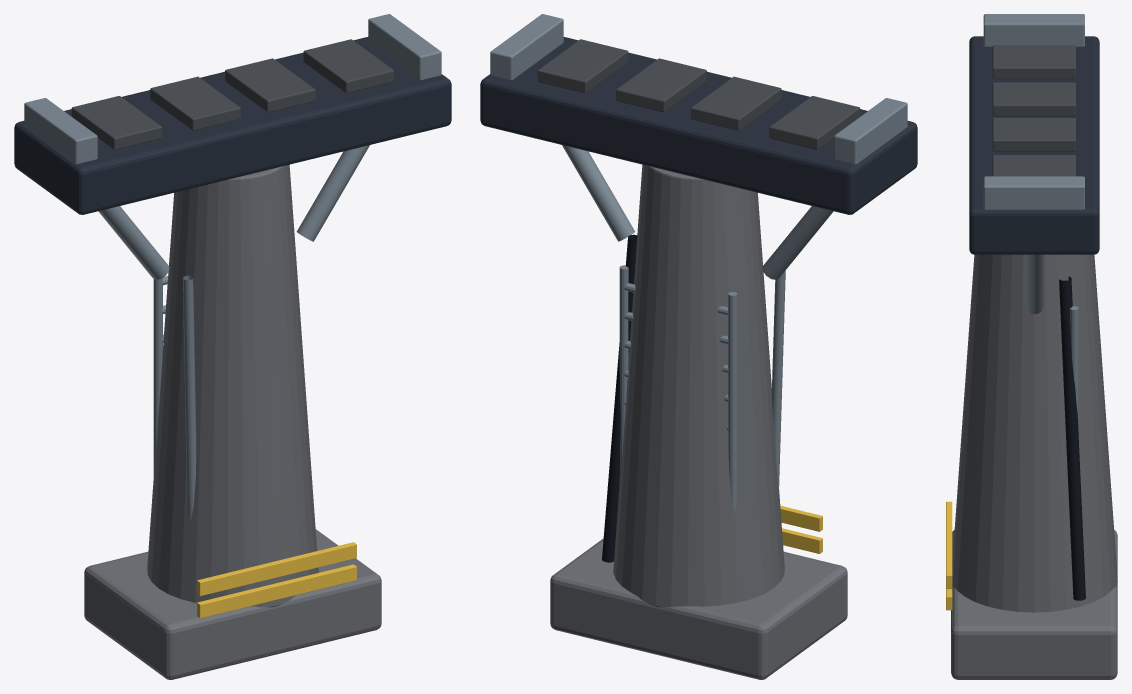
The model's file is elevated_road_support_a_v01.glb.
3 renders of one model, left to right at view 1: azimuth 30°, elevation 25°; view 2: azimuth 150°, elevation 25°; view 3: azimuth 270°, elevation 25°, orthographic. The views are drawn at different scales.
Visible parts, largest first — view 1: component__tapered_support_pier__tapered_pier, component__transverse_cap_beam__cap_beam, component__reinforced_crash_footing__crash_footing, component__bearing_pads__bearing_pad.003, component__bearing_pads__bearing_pad.001, component__bearing_pads__bearing_pad.002, component__bearing_pads__bearing_pad, component__lateral_restraint_blocks__lateral_restraint.001, component__lateral_restraint_blocks__lateral_restraint, component__hazard_bands__hazard_band.001, component__hazard_bands__hazard_band, component__service_conduit__service_conduit (+3 smaller); view 2: component__tapered_support_pier__tapered_pier, component__transverse_cap_beam__cap_beam, component__reinforced_crash_footing__crash_footing, component__bearing_pads__bearing_pad.003, component__bearing_pads__bearing_pad.001, component__bearing_pads__bearing_pad.002, component__bearing_pads__bearing_pad, component__lateral_restraint_blocks__lateral_restraint.001, component__lateral_restraint_blocks__lateral_restraint, component__drainage_outlet__drainage_outlet, component__diagonal_knee_braces__knee_brace, component__maintenance_ladder__ladder_rail.001 (+5 smaller); view 3: component__tapered_support_pier__tapered_pier, component__transverse_cap_beam__cap_beam, component__reinforced_crash_footing__crash_footing, component__drainage_outlet__drainage_outlet, component__lateral_restraint_blocks__lateral_restraint, component__lateral_restraint_blocks__lateral_restraint.001, component__bearing_pads__bearing_pad.001, component__bearing_pads__bearing_pad, component__bearing_pads__bearing_pad.002, component__bearing_pads__bearing_pad.003, component__diagonal_knee_braces__knee_brace, component__maintenance_ladder__ladder_rail (+1 smaller).
Part boxes in pixels (box(x1,y1,x2,y2)): component__tapered_support_pier__tapered_pier: box(147, 164, 318, 607); component__transverse_cap_beam__cap_beam: box(14, 37, 451, 214); component__reinforced_crash_footing__crash_footing: box(84, 529, 381, 679); component__bearing_pads__bearing_pad.003: box(303, 39, 394, 93); component__bearing_pads__bearing_pad.001: box(150, 76, 240, 130); component__bearing_pads__bearing_pad.002: box(225, 58, 315, 112); component__bearing_pads__bearing_pad: box(71, 96, 162, 149); component__lateral_restraint_blocks__lateral_restraint.001: box(24, 98, 97, 164); component__lateral_restraint_blocks__lateral_restraint: box(368, 14, 441, 79); component__hazard_bands__hazard_band.001: box(197, 564, 356, 618); component__hazard_bands__hazard_band: box(197, 542, 356, 596); component__service_conduit__service_conduit: box(183, 275, 196, 520); component__tapered_support_pier__tapered_pier: box(613, 164, 784, 607); component__transverse_cap_beam__cap_beam: box(480, 37, 917, 214); component__reinforced_crash_footing__crash_footing: box(550, 538, 847, 679); component__bearing_pads__bearing_pad.003: box(537, 39, 628, 93); component__bearing_pads__bearing_pad.001: box(691, 76, 781, 130); component__bearing_pads__bearing_pad.002: box(616, 58, 706, 112); component__bearing_pads__bearing_pad: box(769, 96, 860, 149); component__lateral_restraint_blocks__lateral_restraint.001: box(834, 98, 907, 164); component__lateral_restraint_blocks__lateral_restraint: box(490, 14, 563, 79); component__drainage_outlet__drainage_outlet: box(602, 234, 637, 562); component__diagonal_knee_braces__knee_brace: box(562, 145, 635, 241); component__maintenance_ladder__ladder_rail.001: box(728, 292, 737, 511); component__tapered_support_pier__tapered_pier: box(952, 254, 1117, 612); component__transverse_cap_beam__cap_beam: box(969, 36, 1099, 254); component__reinforced_crash_footing__crash_footing: box(951, 530, 1117, 679); component__drainage_outlet__drainage_outlet: box(1059, 276, 1085, 600); component__lateral_restraint_blocks__lateral_restraint: box(983, 176, 1084, 209); component__lateral_restraint_blocks__lateral_restraint.001: box(983, 14, 1084, 46); component__bearing_pads__bearing_pad.001: box(992, 82, 1075, 116); component__bearing_pads__bearing_pad: box(992, 45, 1075, 79); component__bearing_pads__bearing_pad.002: box(992, 117, 1075, 151); component__bearing_pads__bearing_pad.003: box(992, 155, 1075, 176); component__diagonal_knee_braces__knee_brace: box(1024, 254, 1044, 313); component__maintenance_ladder__ladder_rail: box(1070, 306, 1078, 431).
Size of what is drawn, in the model's own units: 6 by 8.41 by 2.47.
